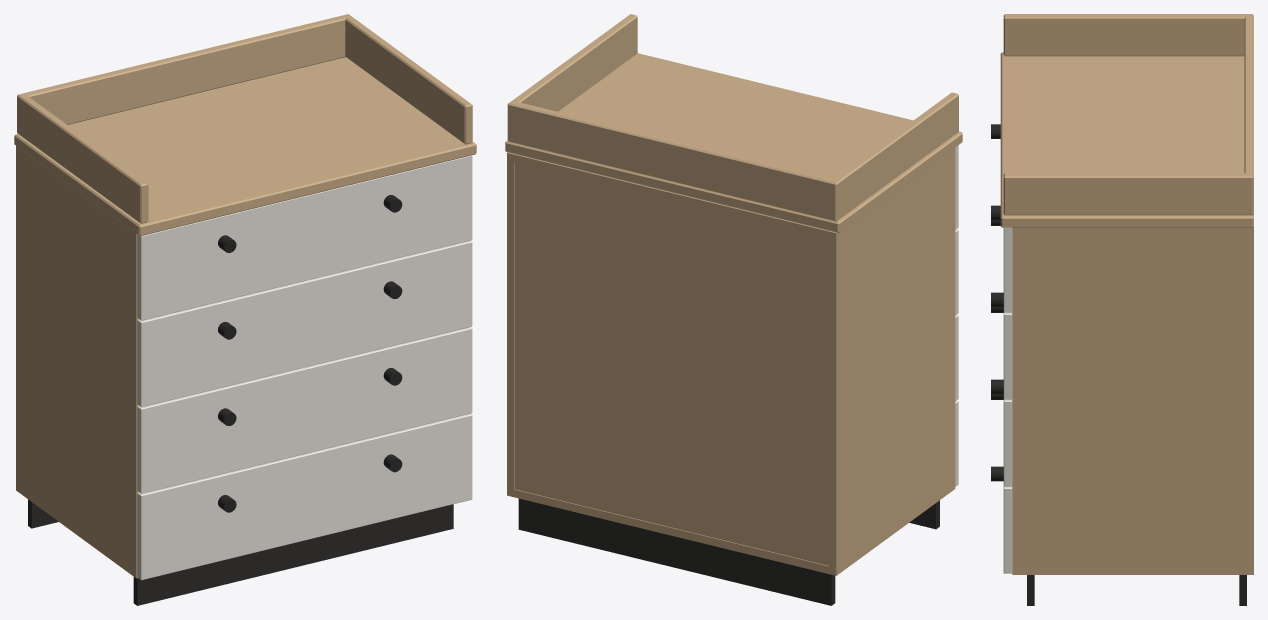
File: 35_komoda_przewijak_80.glb
3 views of the same model, side by side, from view 1: azimuth 30°, elevation 25°; view 2: azimuth 150°, elevation 25°; view 3: azimuth 270°, elevation 25° (orthographic).
Parts seen in each view (by area): view 1: Korpus, Wierzch, Front_szuflada_4, Front_szuflada_3, Front_szuflada_2, Front_szuflada_1, Barierka, Cokol, Uchwyty; view 2: Korpus, Wierzch, Barierka, Cokol; view 3: Korpus, Wierzch, Barierka, Uchwyty, Front_szuflada_2, Front_szuflada_3, Front_szuflada_4, Front_szuflada_1, Cokol.
Boxes of the visible parts, left/top/right/bottom form: Korpus: left=16, top=146, right=138, bottom=578; Wierzch: left=14, top=57, right=476, bottom=236; Front_szuflada_4: left=137, top=413, right=472, bottom=580; Front_szuflada_3: left=137, top=327, right=472, bottom=493; Front_szuflada_2: left=137, top=240, right=472, bottom=407; Front_szuflada_1: left=137, top=155, right=472, bottom=320; Barierka: left=17, top=14, right=472, bottom=223; Cokol: left=28, top=499, right=453, bottom=605; Uchwyty: left=218, top=195, right=402, bottom=512; Korpus: left=507, top=148, right=955, bottom=575; Wierzch: left=505, top=53, right=962, bottom=232; Barierka: left=507, top=14, right=958, bottom=221; Cokol: left=518, top=498, right=939, bottom=605; Korpus: left=1012, top=226, right=1253, bottom=574; Wierzch: left=1000, top=52, right=1253, bottom=227; Barierka: left=1003, top=14, right=1253, bottom=215; Uchwyty: left=991, top=124, right=1003, bottom=481; Front_szuflada_2: left=1003, top=312, right=1012, bottom=399; Front_szuflada_3: left=1003, top=399, right=1012, bottom=486; Front_szuflada_4: left=1003, top=486, right=1012, bottom=573; Front_szuflada_1: left=1003, top=227, right=1012, bottom=312; Cokol: left=1027, top=575, right=1246, bottom=605.
Size of the model in its own units: 0.812 by 0.99 by 0.544.
